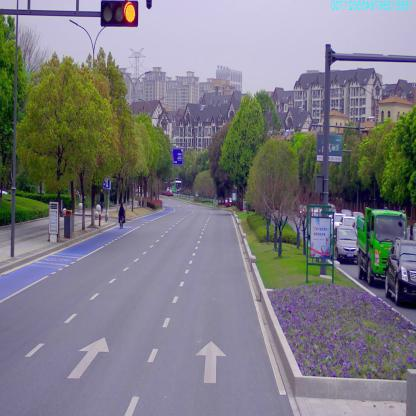traffic-light: (101, 2, 138, 28)
